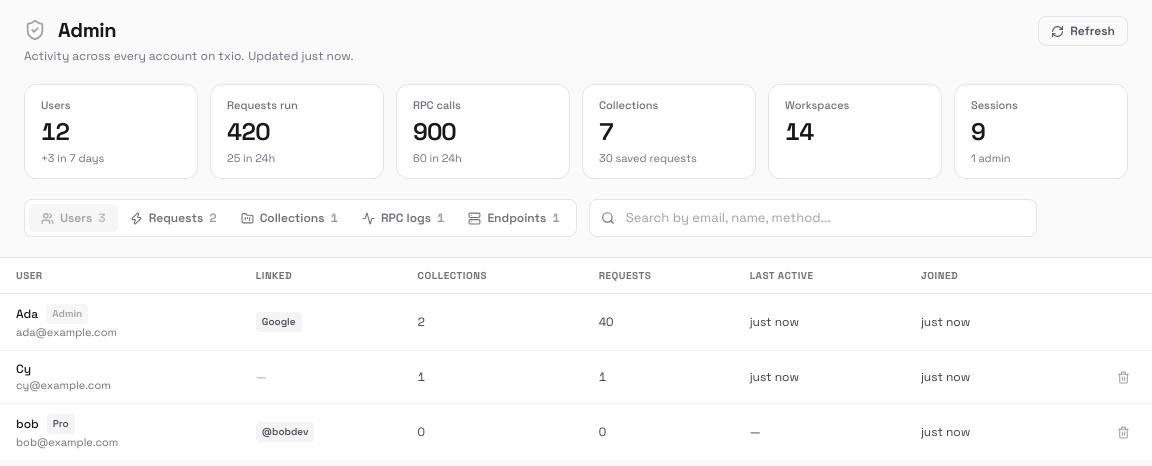
Test: AdminPage › switches between requests, collections and RPC logs
The width and height of the screenshot is (1152, 466).
Expected: the text "ada@example.com" is shown, [16, 325, 117, 339]
Click the tab "Requests 2": coordinates (173, 218) [118, 204, 229, 232]
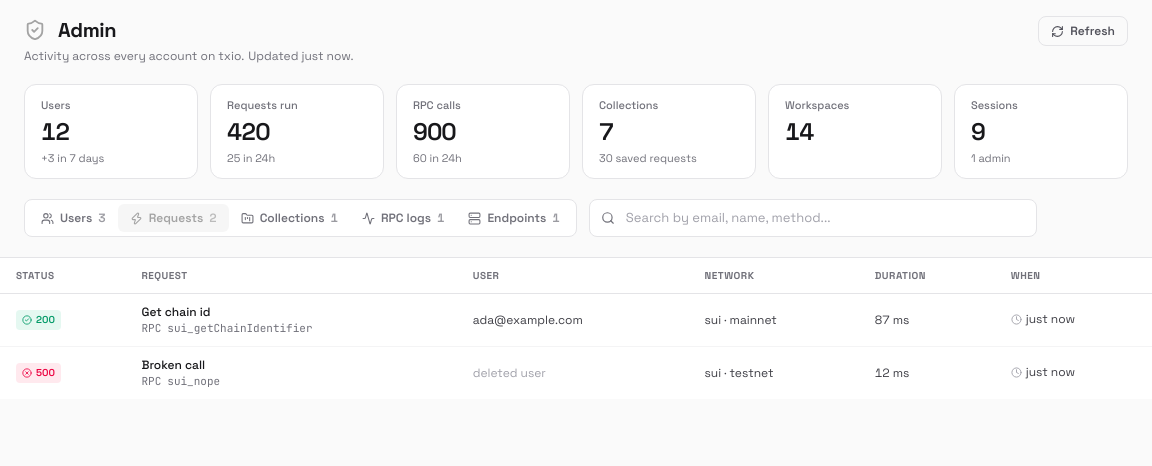
Result: the text "Get chain id" is shown at [142, 304, 210, 320]
Result: the text "deleted user" is shown at [473, 365, 546, 381]
Result: the text "87 ms" is shown at [859, 294, 995, 346]
Click the tab "Collections 1": coordinates (289, 218) [229, 204, 350, 232]
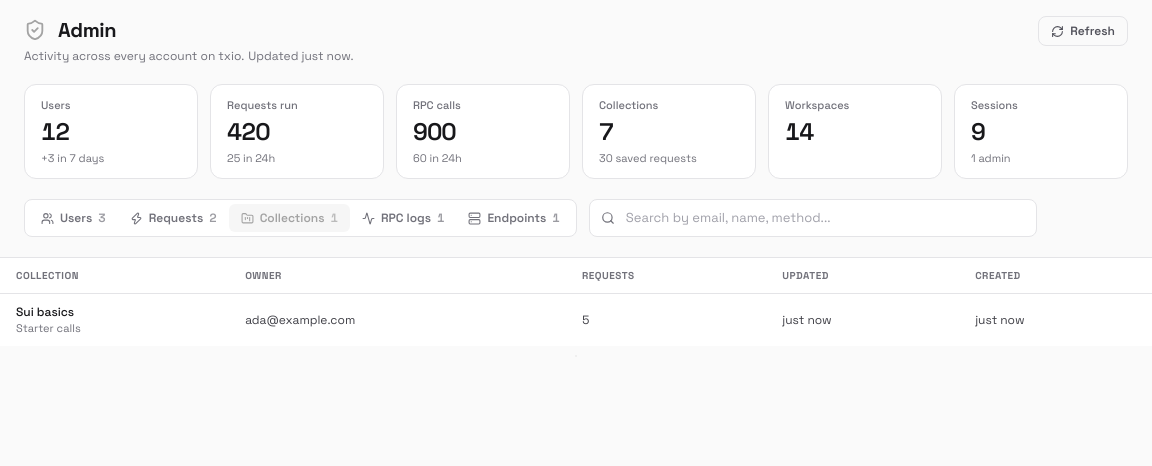
Result: the text "Sui basics" is shown at [16, 304, 74, 320]
Result: the text "Starter calls" is shown at [16, 321, 81, 335]
Click the tab "RPC logs 1": coordinates (403, 218) [350, 204, 456, 232]
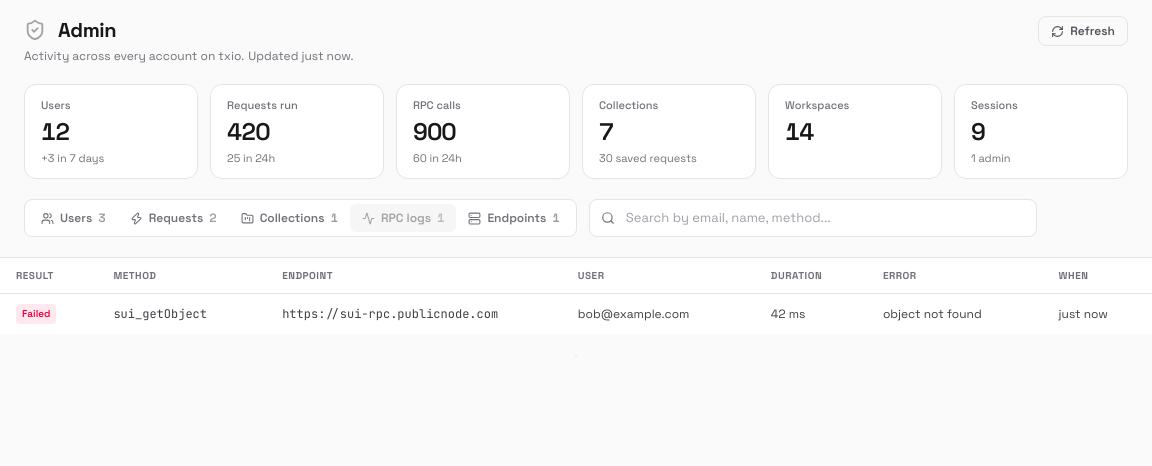
Result: the text "sui_getObject" is shown at [97, 294, 266, 334]
Result: the text "object not found" is shown at [867, 294, 1043, 334]
